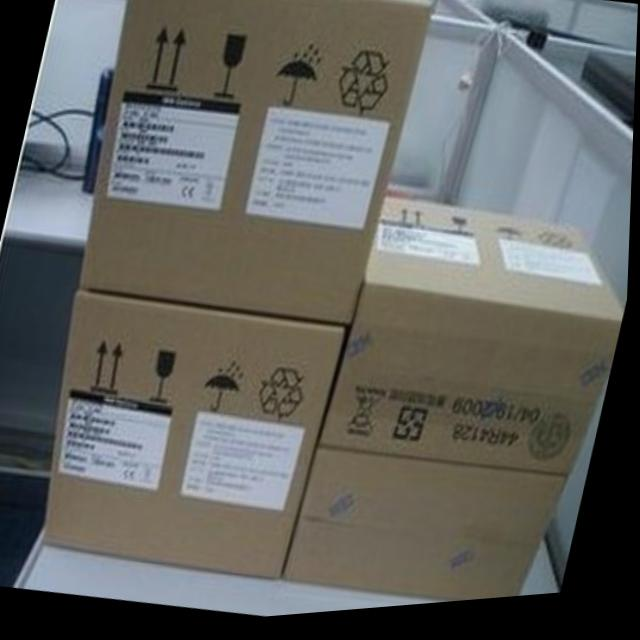box: (81, 0, 434, 331), (48, 293, 351, 585), (321, 204, 627, 486), (285, 453, 573, 610)
